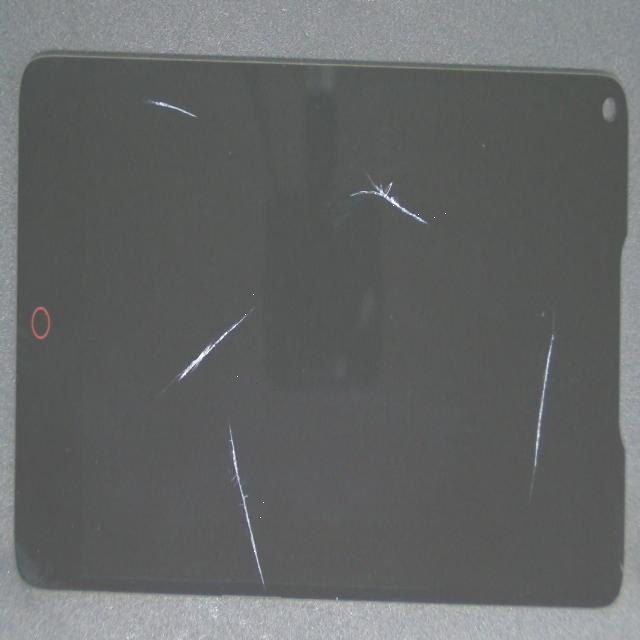scratch: (128, 165, 350, 601), (162, 73, 524, 290), (88, 207, 264, 621)
